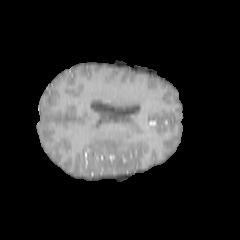glioma: (87, 136, 130, 176)
